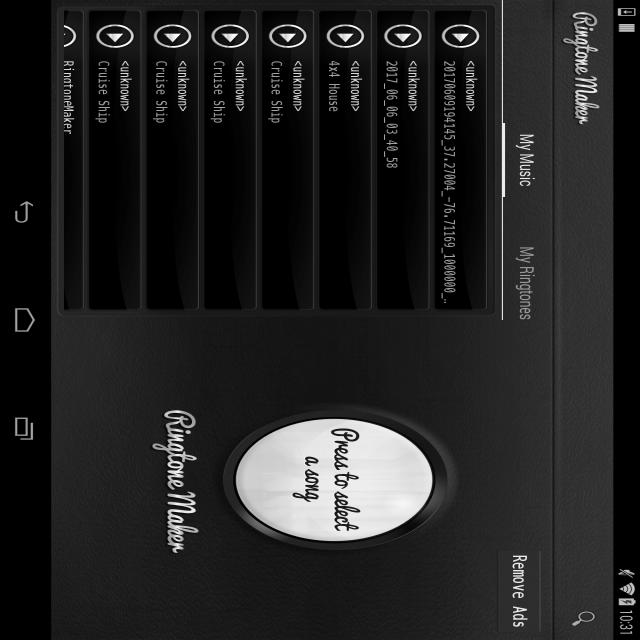ImageButton: (18, 349, 97, 378), (18, 98, 97, 126), (18, 134, 97, 162), (18, 170, 97, 198), (18, 206, 97, 234), (18, 242, 97, 270), (18, 278, 97, 306), (18, 314, 97, 342)
ImageView: (13, 19, 201, 52)
TextView: (97, 112, 492, 126), (97, 148, 269, 162), (394, 62, 512, 78), (97, 351, 215, 364), (97, 220, 197, 234), (97, 256, 197, 270), (97, 292, 197, 306), (97, 328, 197, 342), (97, 364, 197, 378), (214, 62, 298, 78), (97, 184, 179, 198), (97, 99, 179, 112), (97, 135, 179, 148), (97, 171, 179, 184), (97, 207, 179, 220), (97, 243, 179, 256), (97, 279, 179, 292), (97, 315, 179, 328)
